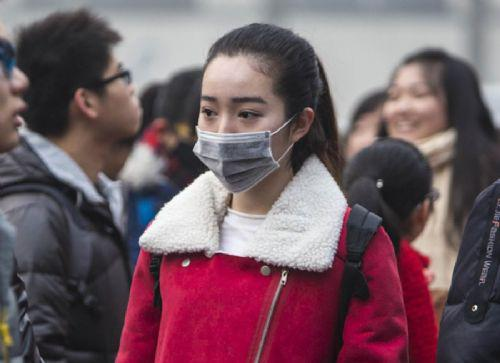NONE: (80, 63, 147, 138), (384, 86, 449, 145), (1, 38, 30, 158)
OK: (191, 88, 293, 190)
